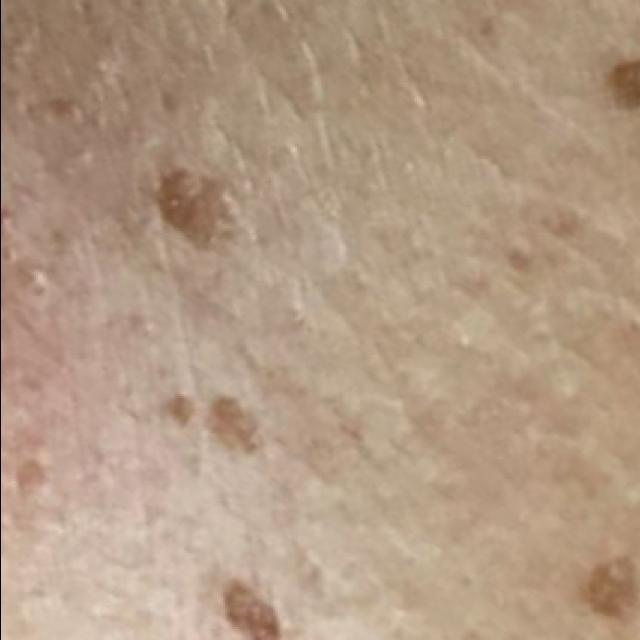wart: (150, 159, 244, 265), (214, 572, 292, 640), (207, 388, 270, 462), (581, 551, 640, 629), (603, 48, 640, 114)
